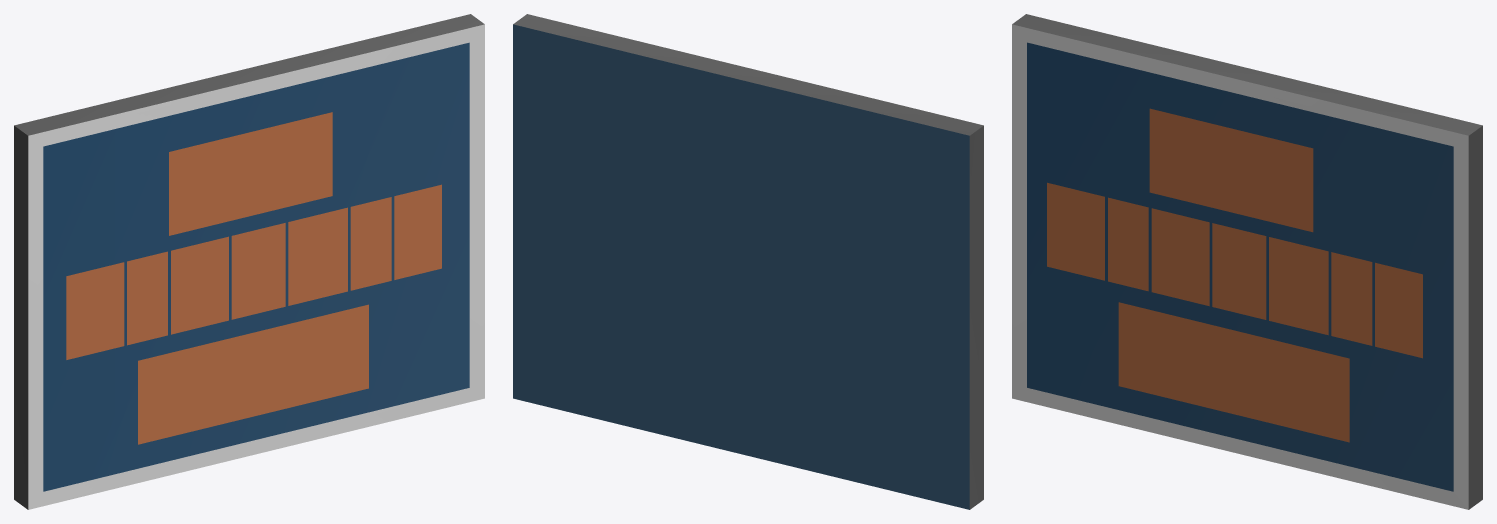
The model's file is s_stereo_sign_001.dae.
3 renders of one model, left to right at view 1: azimuth 30°, elevation 25°; view 2: azimuth 150°, elevation 25°; view 3: azimuth 330°, elevation 25°, orthographic.
Visible parts, largest first — view 1: s_stereo_sign_001_L25; view 2: s_stereo_sign_001_L25; view 3: s_stereo_sign_001_L25.
Boxes of the visible parts, bbox=[...] form: s_stereo_sign_001_L25: bbox=[14, 14, 484, 509]; s_stereo_sign_001_L25: bbox=[513, 14, 983, 509]; s_stereo_sign_001_L25: bbox=[1012, 14, 1482, 509].
Size of the model in its own units: 1.72 by 0.1028 by 1.35.
